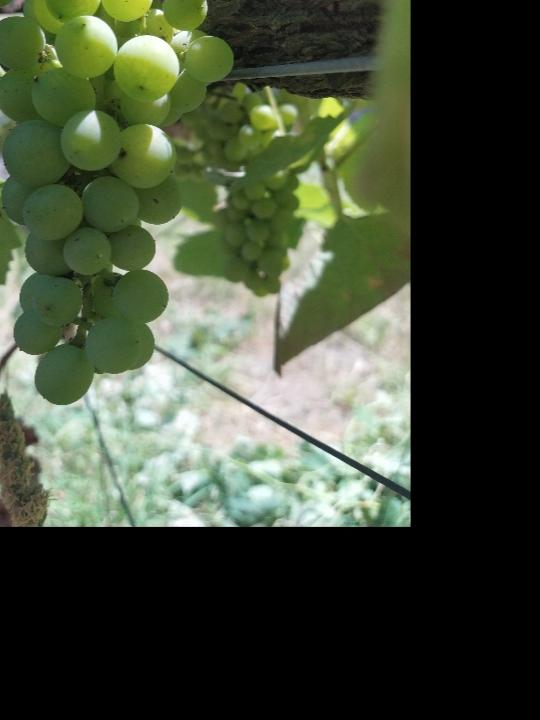grape: (0, 0, 238, 407)
